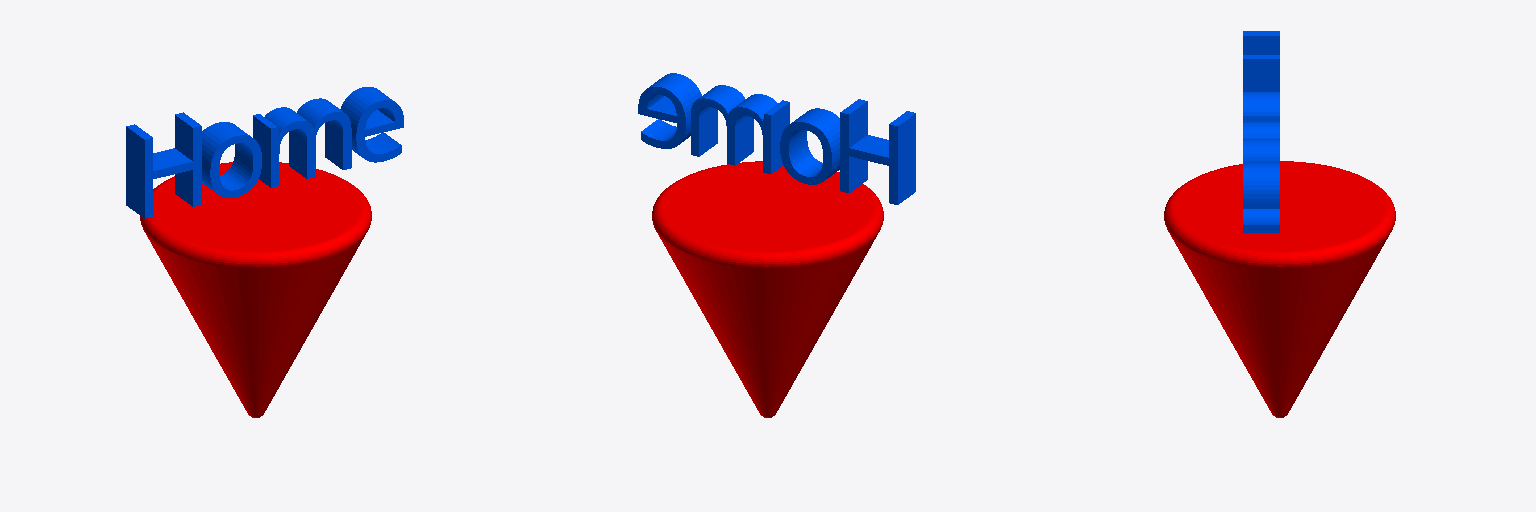
File: Home.obj
3 renders of one model, left to right at view 1: azimuth 30°, elevation 25°; view 2: azimuth 150°, elevation 25°; view 3: azimuth 270°, elevation 25°, orthographic.
Parts seen in each view (by area): view 1: 000_Cone, 003_3D_Text_-_m, 001_3D_Text_-_H, 002_3D_Text_-_o, 004_3D_Text_-_e; view 2: 000_Cone, 003_3D_Text_-_m, 001_3D_Text_-_H, 002_3D_Text_-_o, 004_3D_Text_-_e; view 3: 000_Cone, 004_3D_Text_-_e, 001_3D_Text_-_H, 003_3D_Text_-_m, 002_3D_Text_-_o.
Part boxes in pixels (left/top/right/bottom): 000_Cone: left=140, top=162, right=371, bottom=417; 003_3D_Text_-_m: left=253, top=98, right=351, bottom=187; 001_3D_Text_-_H: left=126, top=112, right=201, bottom=218; 002_3D_Text_-_o: left=202, top=122, right=261, bottom=197; 004_3D_Text_-_e: left=340, top=87, right=403, bottom=162; 000_Cone: left=652, top=161, right=883, bottom=417; 003_3D_Text_-_m: left=691, top=85, right=789, bottom=173; 001_3D_Text_-_H: left=840, top=99, right=915, bottom=204; 002_3D_Text_-_o: left=780, top=108, right=839, bottom=184; 004_3D_Text_-_e: left=638, top=73, right=701, bottom=148; 000_Cone: left=1164, top=161, right=1395, bottom=417; 004_3D_Text_-_e: left=1243, top=163, right=1279, bottom=232; 001_3D_Text_-_H: left=1243, top=31, right=1279, bottom=91; 003_3D_Text_-_m: left=1243, top=113, right=1279, bottom=162; 002_3D_Text_-_o: left=1243, top=92, right=1279, bottom=112.
Size of the model in its own units: 123 by 146 by 95.05.